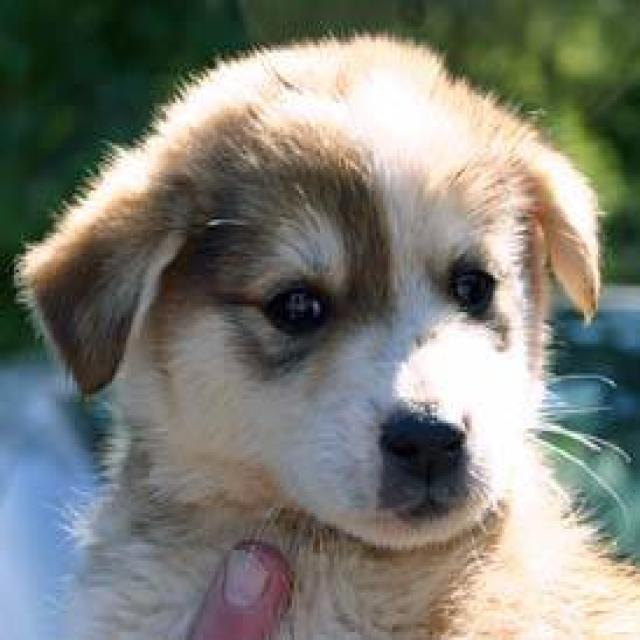dog: (12, 29, 638, 637)
